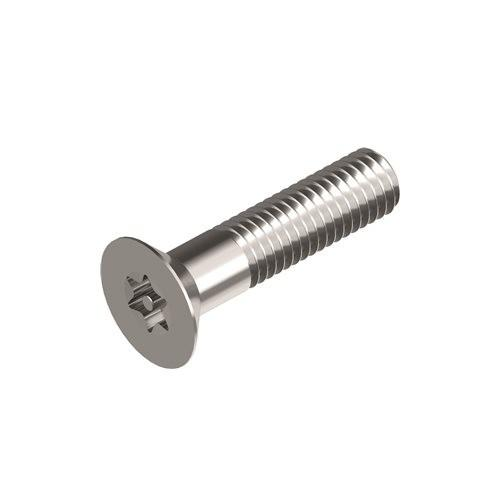Tornillo: (96, 144, 405, 370)
